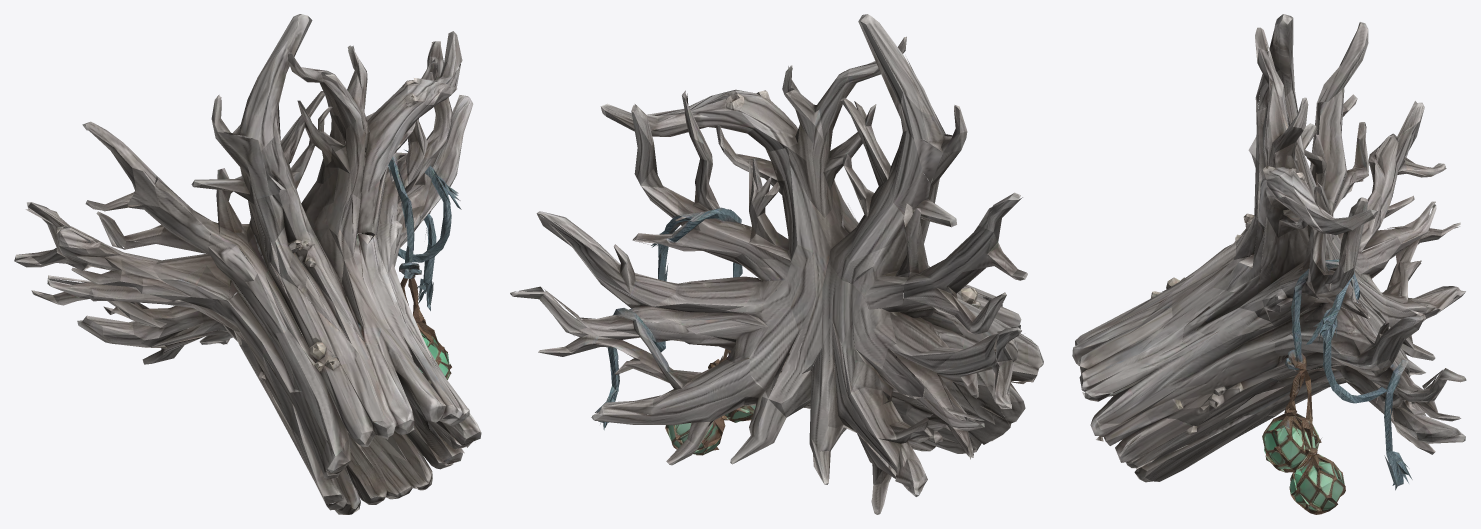
The model's file is east_driftwood.glb.
3 renders of one model, left to right at view 1: azimuth 30°, elevation 25°; view 2: azimuth 150°, elevation 25°; view 3: azimuth 270°, elevation 25°, orthographic. The views are drawn at different scales.
Parts seen in each view (by area): view 1: Mesh_0; view 2: Mesh_0; view 3: Mesh_0.
Part boxes in pixels (left/top/right/bottom): Mesh_0: left=14, top=14, right=481, bottom=514; Mesh_0: left=510, top=14, right=1043, bottom=514; Mesh_0: left=1072, top=14, right=1466, bottom=514.
Size of the model in its own units: 3.98 by 3.8 by 3.01.
Materials: 1 (1 with a texture image).
